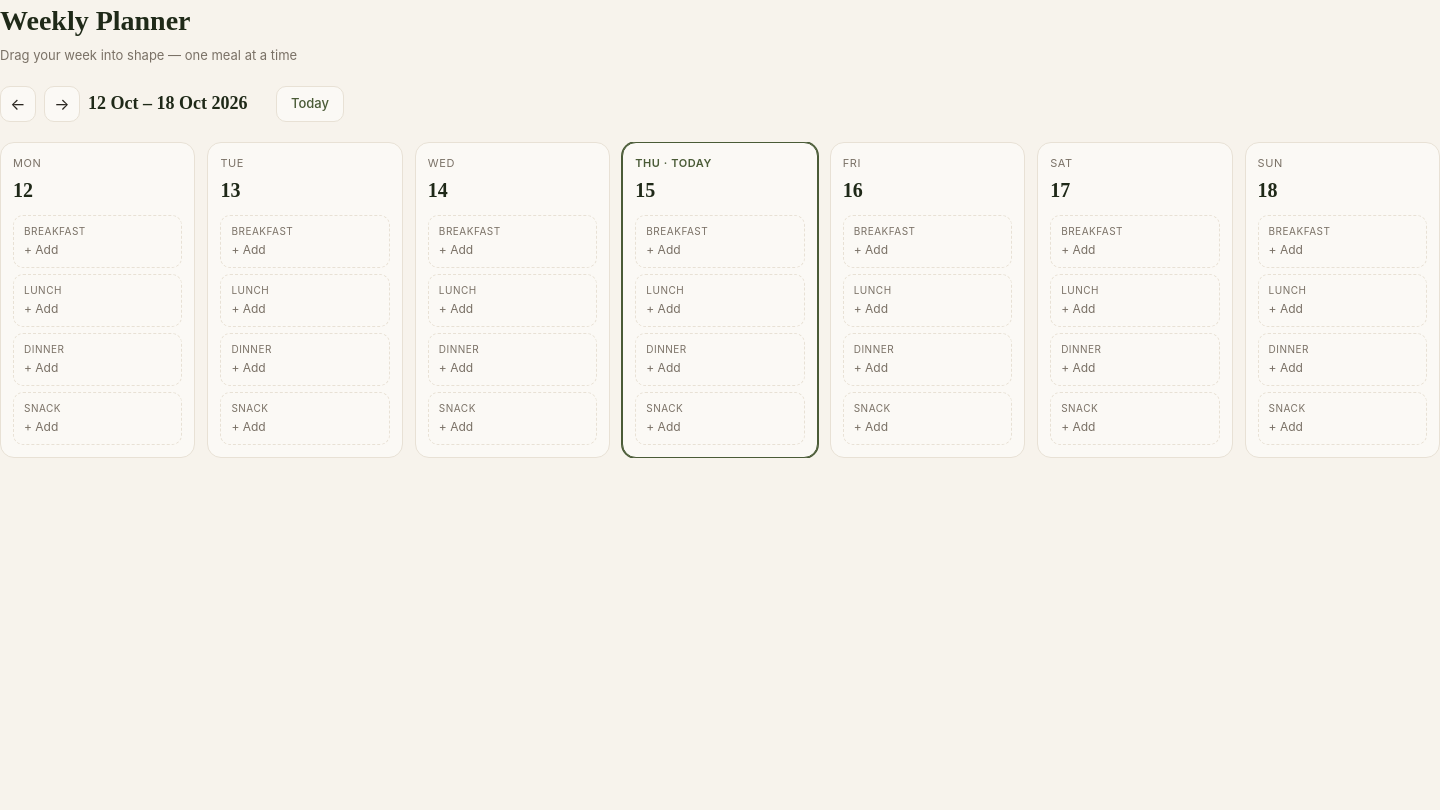
Test case: opens modal when clicking an empty slot add button
Click the 1st text "+ Add".
click(41, 250)  # box [24,241,58,259]
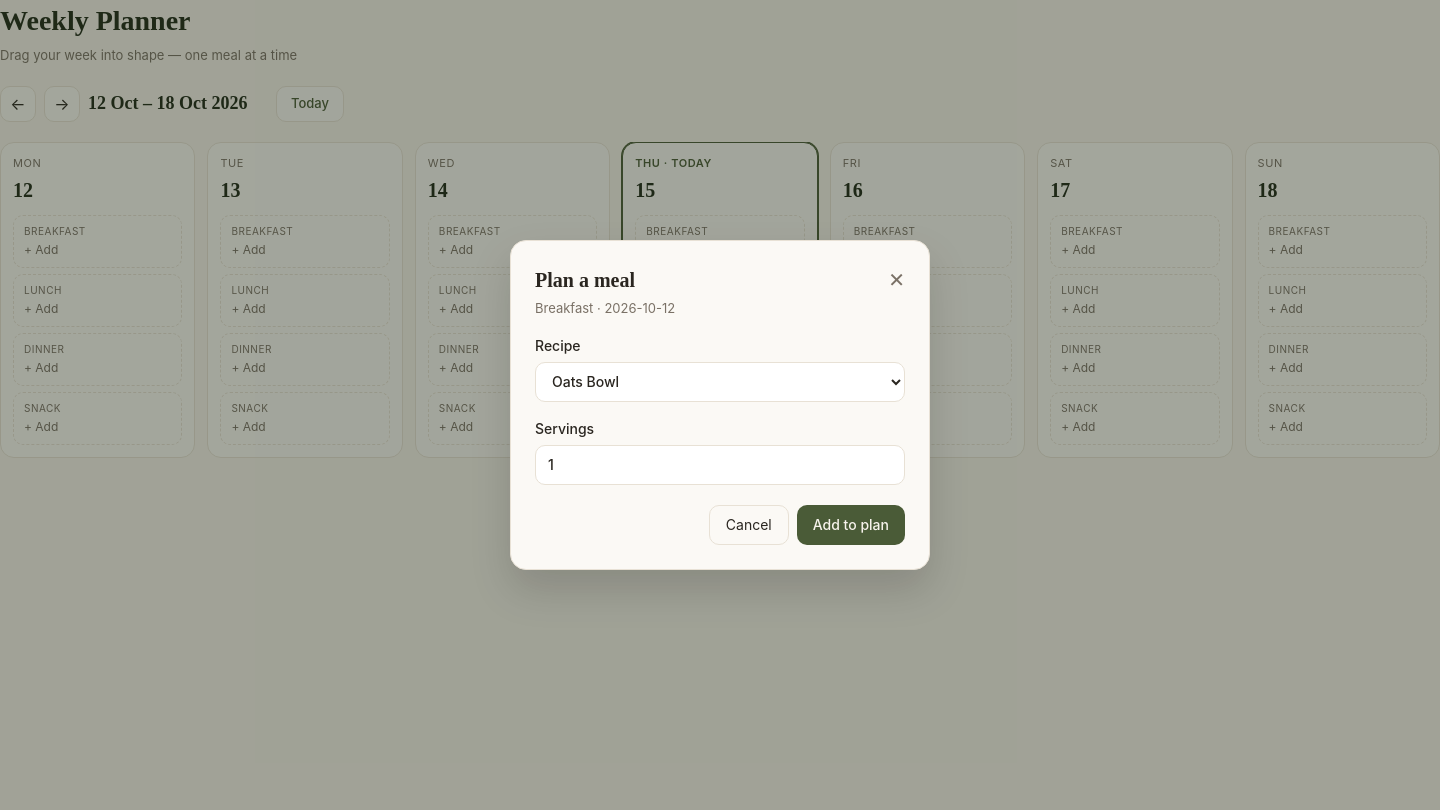
Expected: the heading "Plan a meal" is shown, [535,265,635,295]
